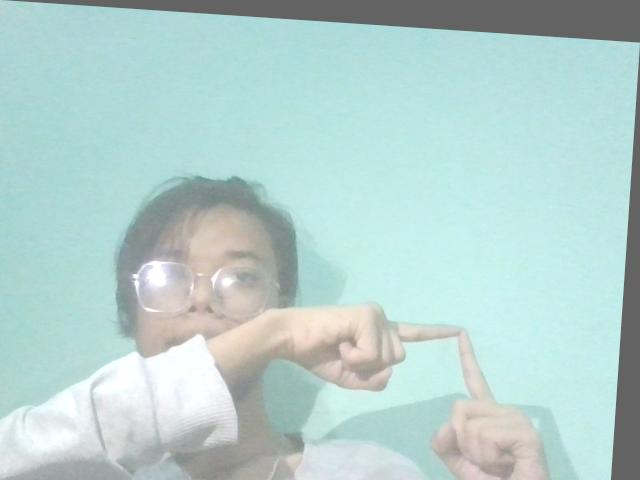When: (227, 248, 592, 480)
